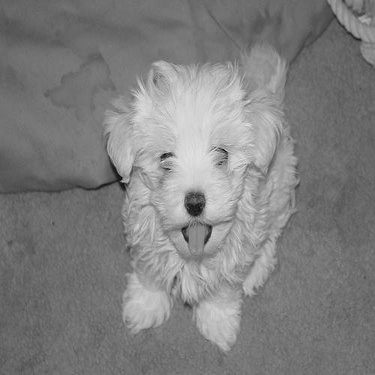dog: (92, 33, 307, 355)
